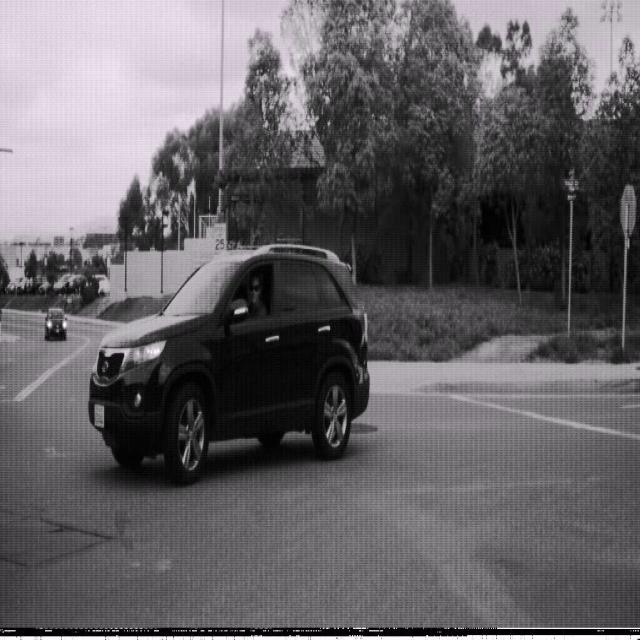speedLimit25: (212, 222, 227, 256)
